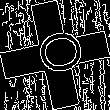O_W: (26, 29, 84, 81)
